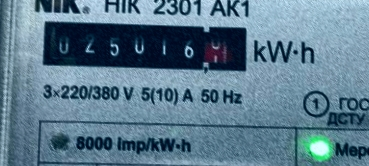0: (134, 34, 149, 57), (58, 35, 72, 57), (211, 32, 223, 52)
1: (159, 34, 171, 59), (212, 55, 221, 66)
2: (84, 33, 98, 56)
5: (109, 37, 121, 58)
6: (183, 38, 197, 63)
screen: (35, 12, 259, 81)
